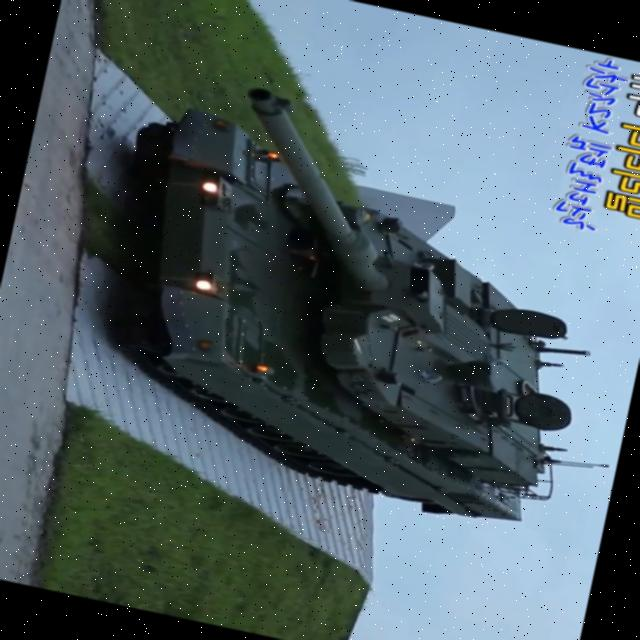korea tank: (63, 59, 640, 552)
